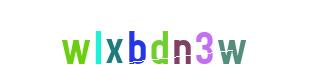3: (147, 0, 227, 80)
B: (115, 0, 195, 80)
D: (117, 0, 197, 80)
L: (73, 0, 153, 80)
N: (142, 0, 222, 80)
W: (58, 0, 138, 80), (157, 0, 237, 80)
X: (95, 0, 175, 80)
